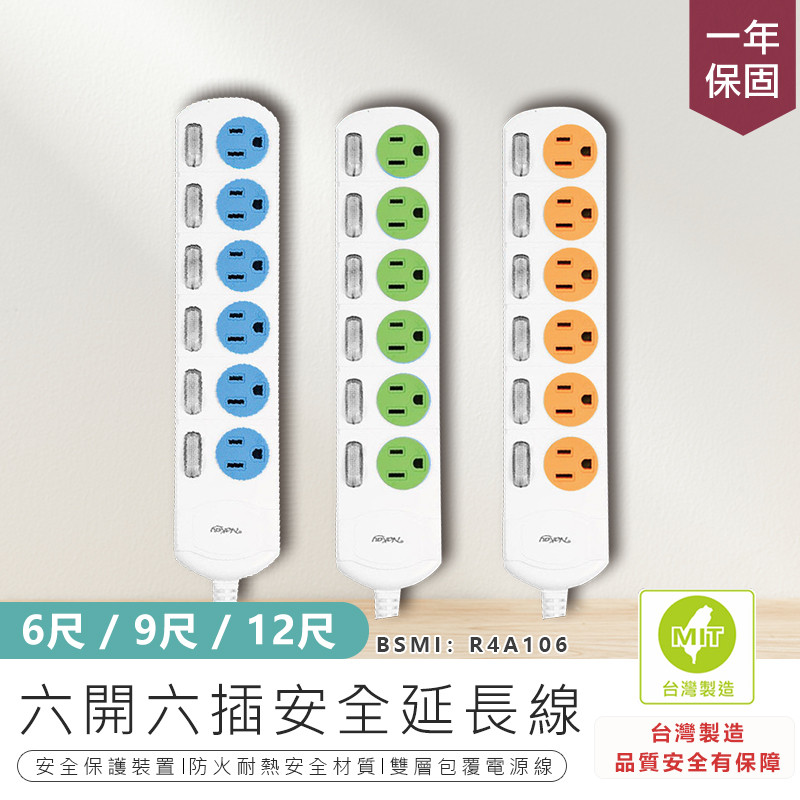socket: (329, 104, 446, 621), (170, 97, 283, 603), (499, 106, 609, 620)
